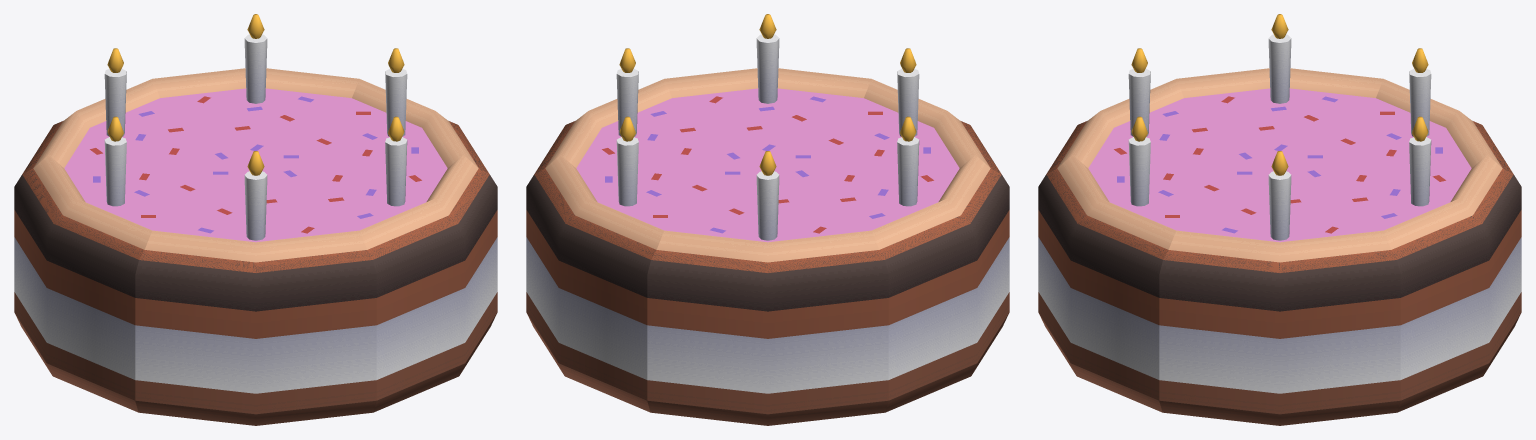
File: cake-birthday.glb
The picture shows the model from 3 angles, left to right: view 1: azimuth 30°, elevation 25°; view 2: azimuth 150°, elevation 25°; view 3: azimuth 270°, elevation 25°; orthographic projection.
Visible parts, largest first — view 1: slice (×6); view 2: slice (×6); view 3: slice (×6).
Part boxes in pixels (x1,y1,x2,y2): slice (×6): [14, 14, 497, 425]; slice (×6): [526, 14, 1009, 425]; slice (×6): [1038, 14, 1521, 425].
Size of the model in its own units: 0.6392 by 0.3638 by 0.6392.
Materials: 1 (1 with a texture image).
